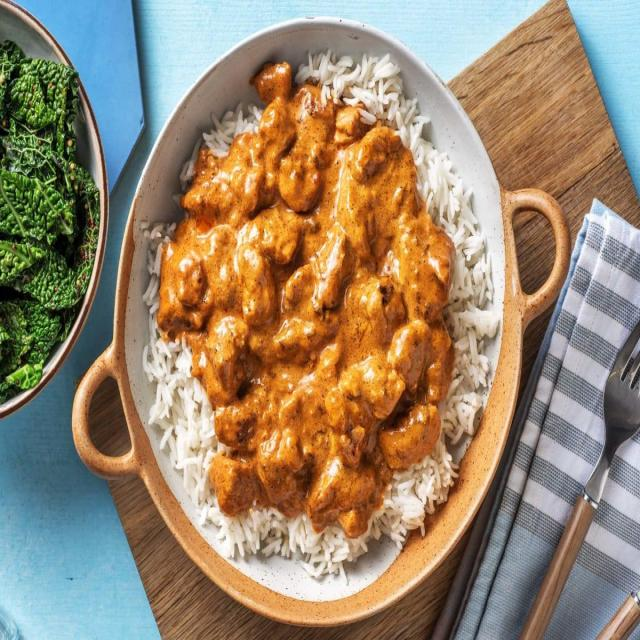chicken: (187, 103, 440, 533)
